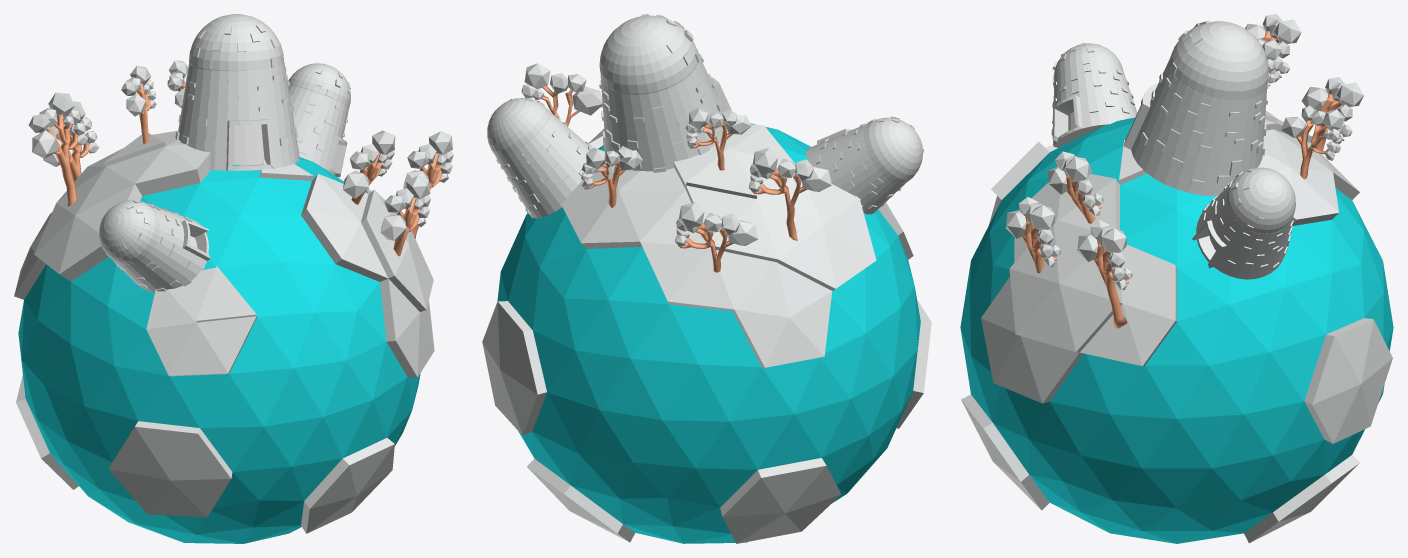
Rendered from kargezegeni.fbx.
3 renders of one model, left to right at view 1: azimuth 30°, elevation 25°; view 2: azimuth 150°, elevation 25°; view 3: azimuth 270°, elevation 25°, orthographic. The views are drawn at different scales.
Visible parts, largest first — view 1: Sphere.002; view 2: Sphere.002; view 3: Sphere.002.
Boxes of the visible parts, bbox=[...] form: Sphere.002: bbox=[14, 14, 453, 543]; Sphere.002: bbox=[482, 14, 931, 543]; Sphere.002: bbox=[960, 14, 1393, 543].
Bounding box in the file's own units: 803 × 980 × 746.
